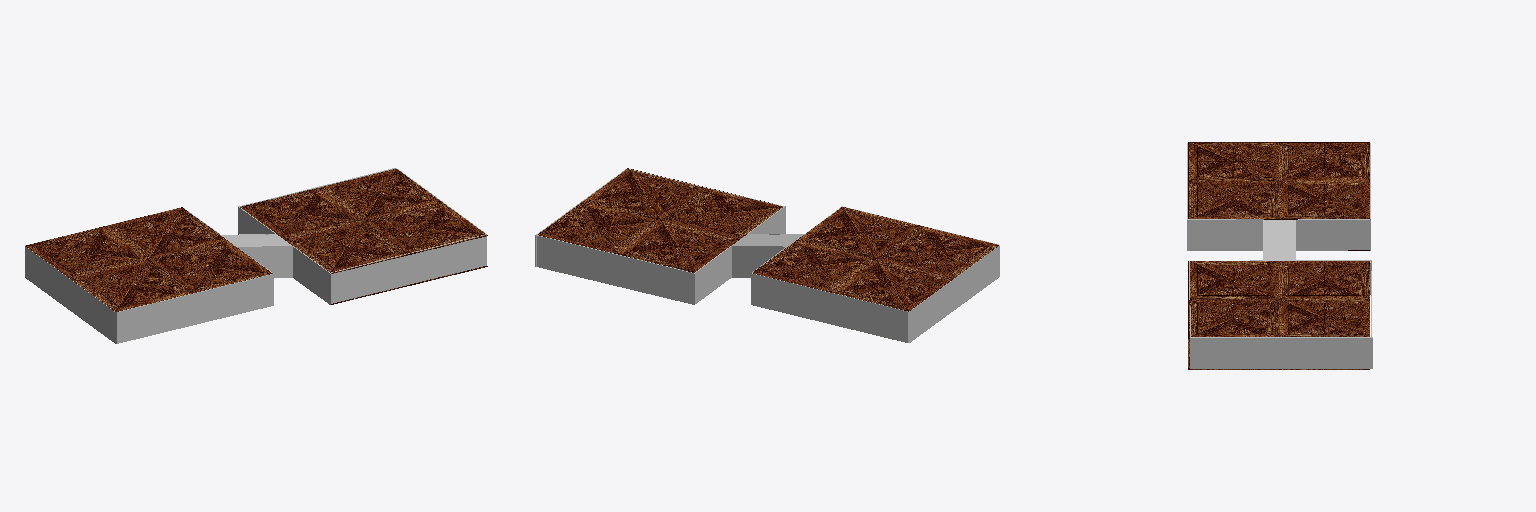
3 views of the same model, side by side, from view 1: azimuth 30°, elevation 25°; view 2: azimuth 150°, elevation 25°; view 3: azimuth 270°, elevation 25° (orthographic).
Visible parts, largest first — view 1: Cube.001, Cube.002_Cube.023, wall_Cube.005, Cube.013, wall.004_Cube.022, Cube.012, Cube.010, Cube.009, Cube.016; view 2: Cube.001, Cube.002_Cube.023, Cube.014, wall.003_Cube.021, wall.004_Cube.022, Cube.016, Cube.003, Cube.009, Cube.012; view 3: Cube.001, Cube.002_Cube.023, Cube.015, wall.001_wall, wall.002_Cube.020, Cube.009.
Part boxes in pixels (left/top/right/bottom): Cube.001: left=26, top=207, right=272, bottom=311; Cube.002_Cube.023: left=240, top=169, right=487, bottom=273; wall_Cube.005: left=116, top=274, right=273, bottom=343; Cube.013: left=331, top=234, right=486, bottom=303; wall.004_Cube.022: left=25, top=246, right=115, bottom=343; Cube.012: left=293, top=246, right=330, bottom=304; Cube.010: left=236, top=246, right=292, bottom=277; Cube.009: left=221, top=234, right=291, bottom=245; Cube.016: left=238, top=206, right=275, bottom=234; Cube.001: left=753, top=207, right=998, bottom=311; Cube.002_Cube.023: left=538, top=168, right=782, bottom=272; Cube.014: left=537, top=235, right=693, bottom=304; wall.003_Cube.021: left=751, top=273, right=908, bottom=342; wall.004_Cube.022: left=909, top=245, right=999, bottom=342; Cube.016: left=694, top=246, right=731, bottom=304; Cube.003: left=732, top=246, right=786, bottom=276; Cube.009: left=732, top=234, right=802, bottom=245; Cube.012: left=748, top=206, right=785, bottom=233; Cube.001: left=1188, top=142, right=1369, bottom=219; Cube.002_Cube.023: left=1188, top=261, right=1369, bottom=338; Cube.015: left=1191, top=337, right=1372, bottom=368; wall.001_wall: left=1187, top=219, right=1263, bottom=250; wall.002_Cube.020: left=1296, top=219, right=1369, bottom=250; Cube.009: left=1264, top=220, right=1294, bottom=260.
Bounding box in the file's own units: 947 × 111 × 408.
Materials: 18 (1 with a texture image).